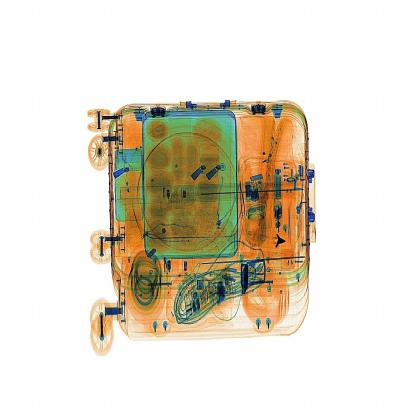gun: (262, 219, 291, 260)
